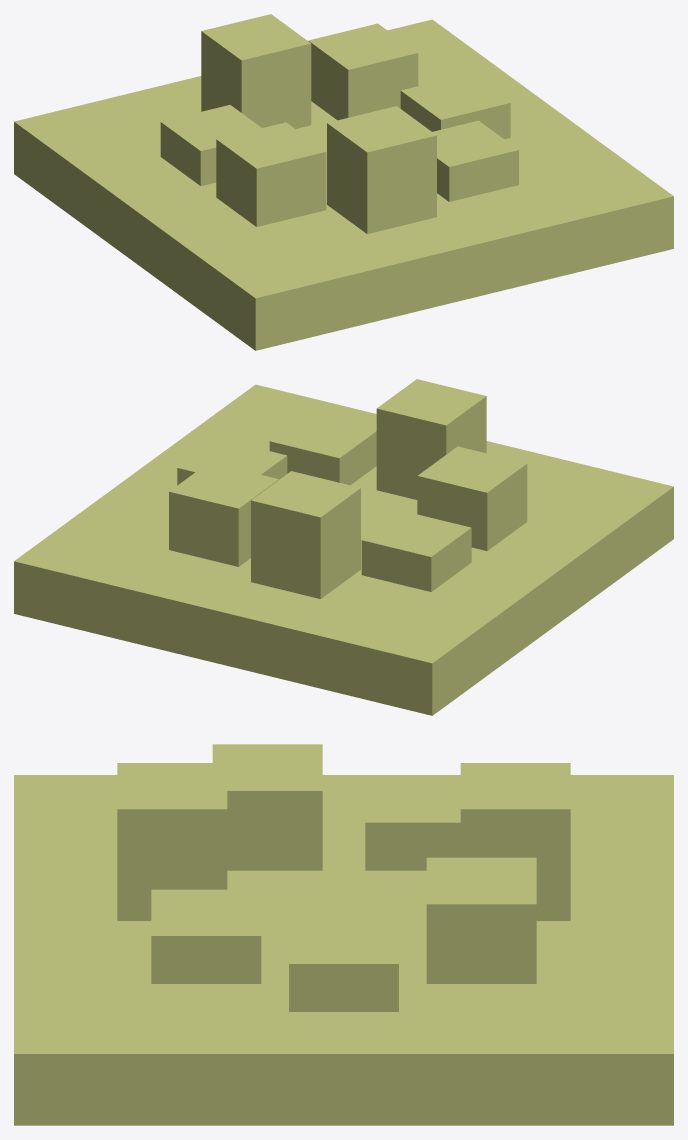
The model's file is savanna.glb.
The picture shows the model from 3 angles, top to bottom: view 1: azimuth 30°, elevation 25°; view 2: azimuth 150°, elevation 25°; view 3: azimuth 270°, elevation 25°; orthographic projection. The views are drawn at different scales.
Parts seen in each view (by area): view 1: savanna base, savanna relief.005, savanna relief.002, savanna relief.004, savanna relief.001, savanna relief.006, savanna relief, savanna relief.003; view 2: savanna base, savanna relief.002, savanna relief.005, savanna relief.004, savanna relief.001, savanna relief.003, savanna relief.006, savanna relief; view 3: savanna base, savanna relief.005, savanna relief.001, savanna relief.002, savanna relief.004, savanna relief.006, savanna relief, savanna relief.003.
Boxes of the visible parts, box(x1,y1,x2,y2) form: savanna base: box(14, 19, 673, 350); savanna relief.005: box(327, 106, 436, 233); savanna relief.002: box(201, 14, 311, 128); savanna relief.004: box(216, 122, 326, 226); savanna relief.001: box(308, 23, 418, 120); savanna relief.006: box(432, 120, 518, 201); savanna relief: box(400, 73, 510, 139); savanna relief.003: box(160, 105, 261, 185); savanna base: box(14, 384, 673, 715); savanna relief.002: box(251, 471, 360, 598); savanna relief.005: box(376, 379, 486, 499); savanna relief.004: box(417, 446, 527, 550); savanna relief.001: box(169, 462, 278, 566); savanna relief.003: box(361, 510, 471, 591); savanna relief.006: box(269, 412, 376, 485); savanna relief: box(177, 438, 287, 485); savanna base: box(14, 775, 673, 1125); savanna relief.005: box(117, 763, 227, 920); savanna relief.001: box(426, 857, 536, 983); savanna relief.002: box(460, 763, 570, 920); savanna relief.004: box(212, 744, 322, 870); savanna relief.006: box(151, 889, 261, 983); savanna relief: box(289, 917, 398, 1011); savanna relief.003: box(365, 776, 460, 870).
Size of the model in its own units: 3 by 0.92 by 3.
